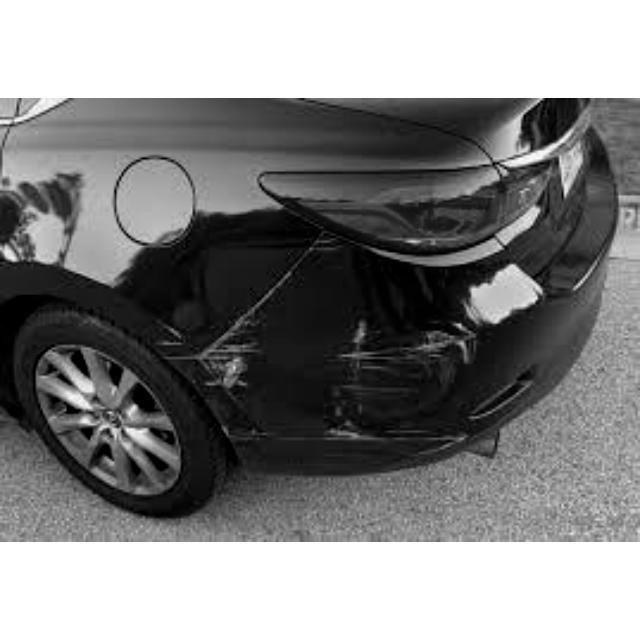rear-bumper-dent: (170, 230, 480, 466)
